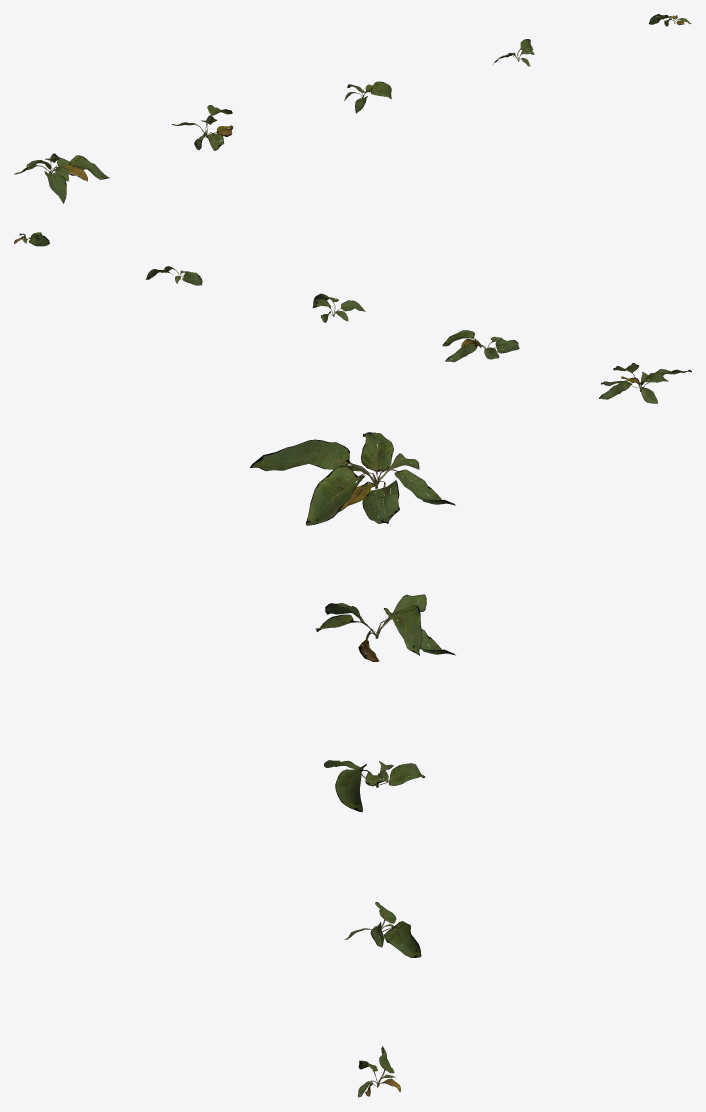
File: weed_plant_02.glb
3 views of the same model, one above another, from view 1: azimuth 30°, elevation 25°; view 2: azimuth 150°, elevation 25°; view 3: azimuth 270°, elevation 25° (orthographic). The views are drawn at different scales.
Parts seen in each view (by area): view 1: weed_plant_02_a_LOD0, weed_plant_02_b_LOD0, weed_plant_02_c_LOD0, weed_plant_02_d_LOD0; view 2: weed_plant_02_a_LOD0, weed_plant_02_b_LOD0, weed_plant_02_c_LOD0, weed_plant_02_d_LOD0, weed_plant_02_e_LOD0; view 3: weed_plant_02_a_LOD0, weed_plant_02_b_LOD0, weed_plant_02_c_LOD0, weed_plant_02_d_LOD0.
Part boxes in pixels (left/top/right/bottom): weed_plant_02_a_LOD0: left=14, top=153, right=109, bottom=203; weed_plant_02_b_LOD0: left=171, top=105, right=233, bottom=150; weed_plant_02_c_LOD0: left=344, top=81, right=391, bottom=113; weed_plant_02_d_LOD0: left=493, top=39, right=534, bottom=66; weed_plant_02_a_LOD0: left=599, top=363, right=691, bottom=403; weed_plant_02_b_LOD0: left=442, top=330, right=519, bottom=362; weed_plant_02_c_LOD0: left=312, top=293, right=365, bottom=322; weed_plant_02_d_LOD0: left=145, top=266, right=202, bottom=285; weed_plant_02_e_LOD0: left=14, top=232, right=49, bottom=246; weed_plant_02_a_LOD0: left=250, top=432, right=455, bottom=525; weed_plant_02_b_LOD0: left=315, top=594, right=455, bottom=661; weed_plant_02_c_LOD0: left=324, top=760, right=425, bottom=812; weed_plant_02_d_LOD0: left=344, top=902, right=421, bottom=957.
Size of the model in its own units: 2.13 by 0.075 by 0.291.
Materials: 2 (2 with a texture image).
